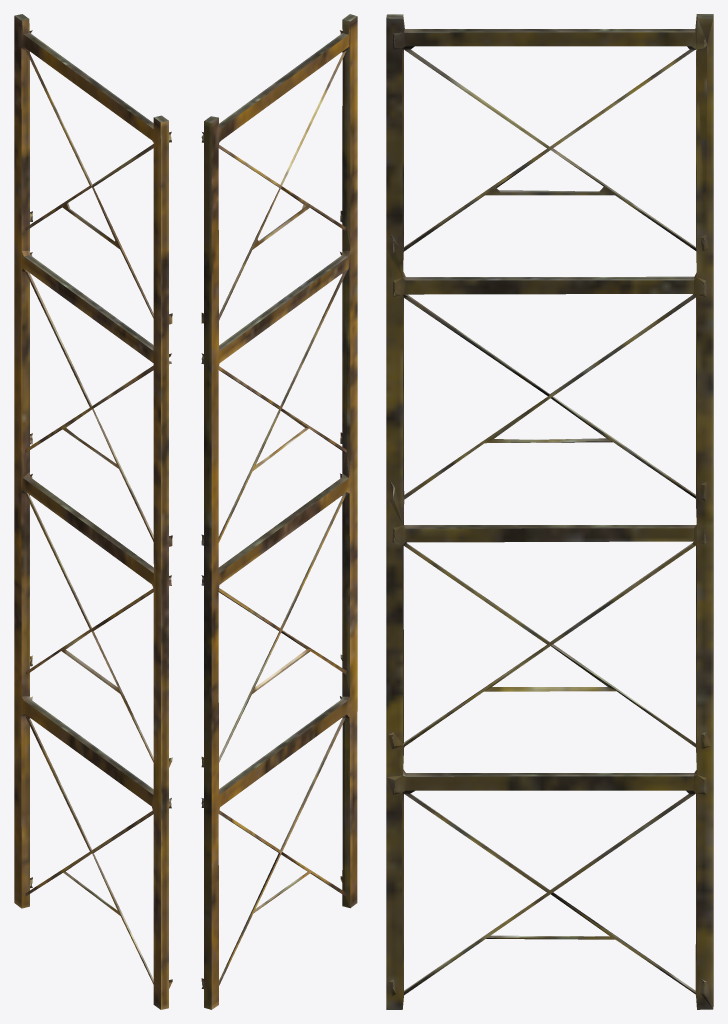
The model's file is scaffold (1).fbx.
3 views of the same model, side by side, from view 1: azimuth 30°, elevation 25°; view 2: azimuth 150°, elevation 25°; view 3: azimuth 270°, elevation 25° (orthographic). The views are drawn at different scales.
Parts seen in each view (by area): view 1: st_scaffold_VR1; view 2: st_scaffold_VR1; view 3: st_scaffold_VR1.
Part boxes in pixels (x1,y1,x2,y2): st_scaffold_VR1: (14,14,172,1009); st_scaffold_VR1: (201,14,357,1009); st_scaffold_VR1: (386,14,713,1009).
Bounding box in the file's own units: 15.02 × 858 × 256.
Materials: 1 (1 with a texture image).
